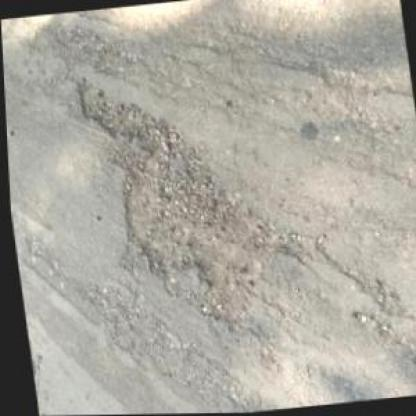pothole: (94, 112, 300, 341), (72, 68, 176, 143)
